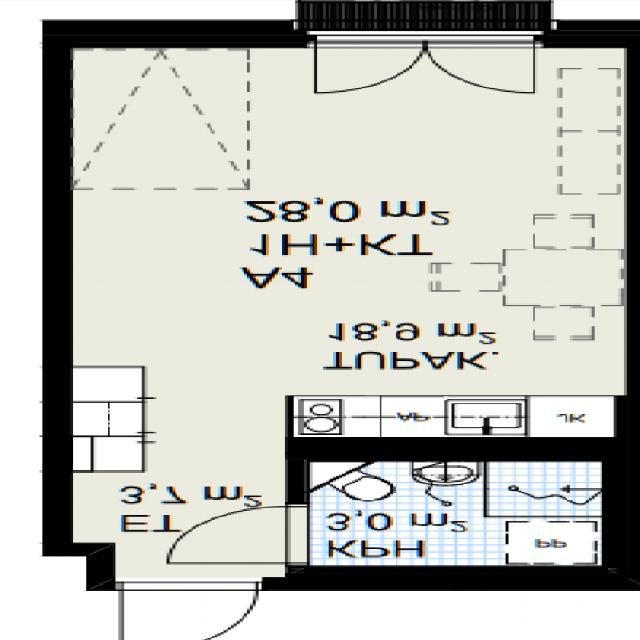door: (123, 577, 260, 640), (422, 30, 536, 101), (308, 30, 422, 101), (166, 505, 310, 561)
